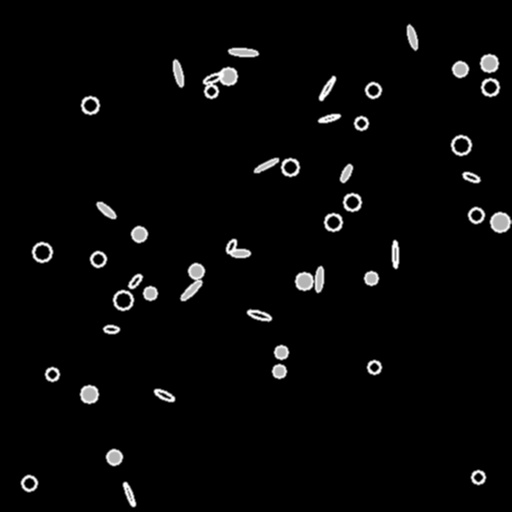pseudomonas: (179, 278, 203, 302), (318, 75, 336, 101), (253, 157, 279, 173), (171, 60, 185, 86), (96, 201, 116, 219), (405, 25, 419, 50), (122, 482, 136, 506), (247, 308, 271, 322), (338, 163, 354, 183), (153, 388, 175, 402), (203, 71, 223, 85), (314, 266, 324, 292), (127, 273, 143, 289), (228, 48, 258, 56), (318, 113, 340, 123), (462, 171, 480, 183), (225, 238, 237, 254), (392, 241, 398, 267), (231, 250, 249, 256), (103, 326, 119, 332)
synechocystis: (452, 136, 470, 154), (33, 243, 51, 261), (114, 291, 132, 309), (491, 213, 509, 231), (220, 68, 236, 84), (282, 159, 298, 175), (481, 55, 497, 71), (81, 386, 97, 402), (296, 273, 312, 289), (325, 214, 341, 230), (344, 194, 360, 210), (82, 97, 98, 113), (482, 79, 498, 95), (453, 62, 467, 76), (366, 83, 380, 97), (469, 208, 483, 222), (91, 252, 105, 266), (22, 476, 36, 490), (189, 264, 203, 278), (107, 450, 121, 464), (132, 227, 146, 241), (273, 365, 285, 377), (46, 368, 58, 380), (472, 471, 484, 483), (365, 272, 377, 284), (144, 287, 156, 299), (368, 361, 380, 373), (275, 346, 287, 358), (205, 85, 217, 97), (355, 117, 367, 129)
